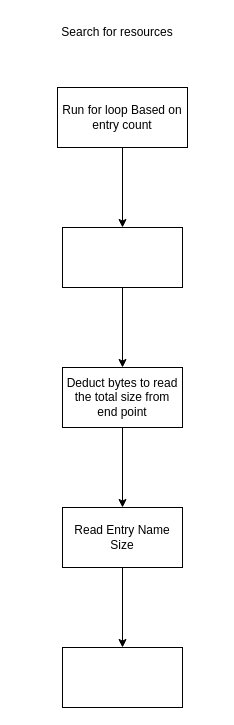
The diagram is 234 pixels wide and 725 high, and some of its shapes have lost their labels. The shapes that lost their labels are listed below. From the top down, each one's centre as x and y in pixels, then its label:
At point (122, 257): "Store the total size for reference to the end of the chunk".
At point (122, 677): "Deduct Entry name size from end point".
